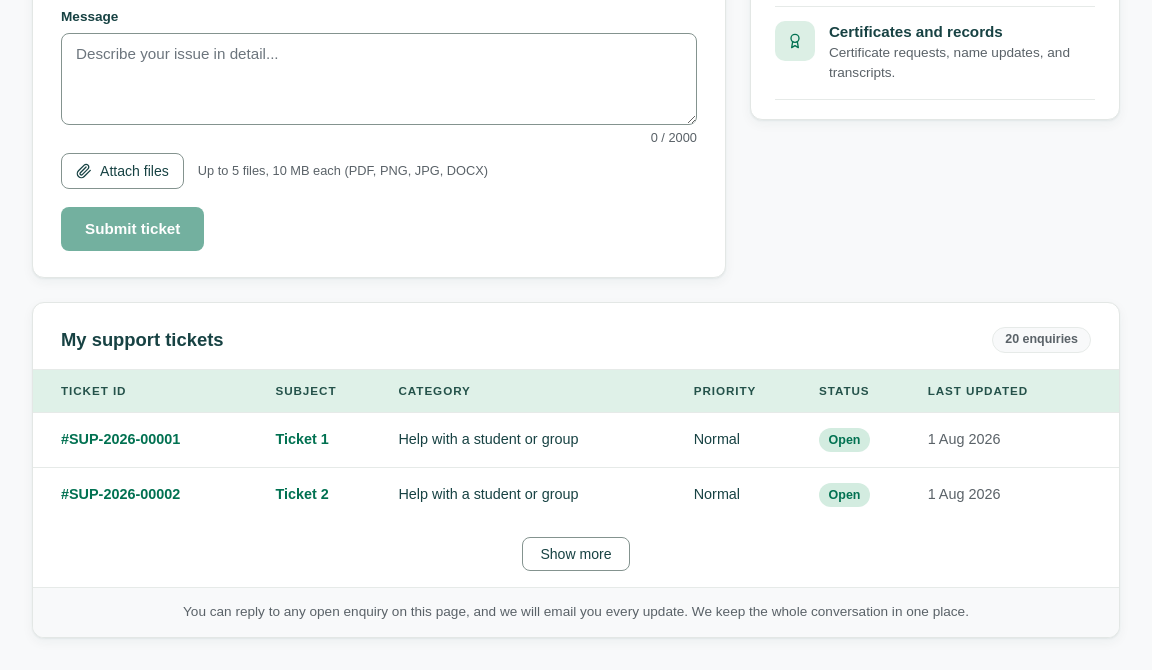
Scenario: SupportCentrePage Show more › appends the next page under the rows already on screen
(page scrolled)
Click the button with class "support__more-button": [576, 554] box [522,537,630,571]
(page scrolled)
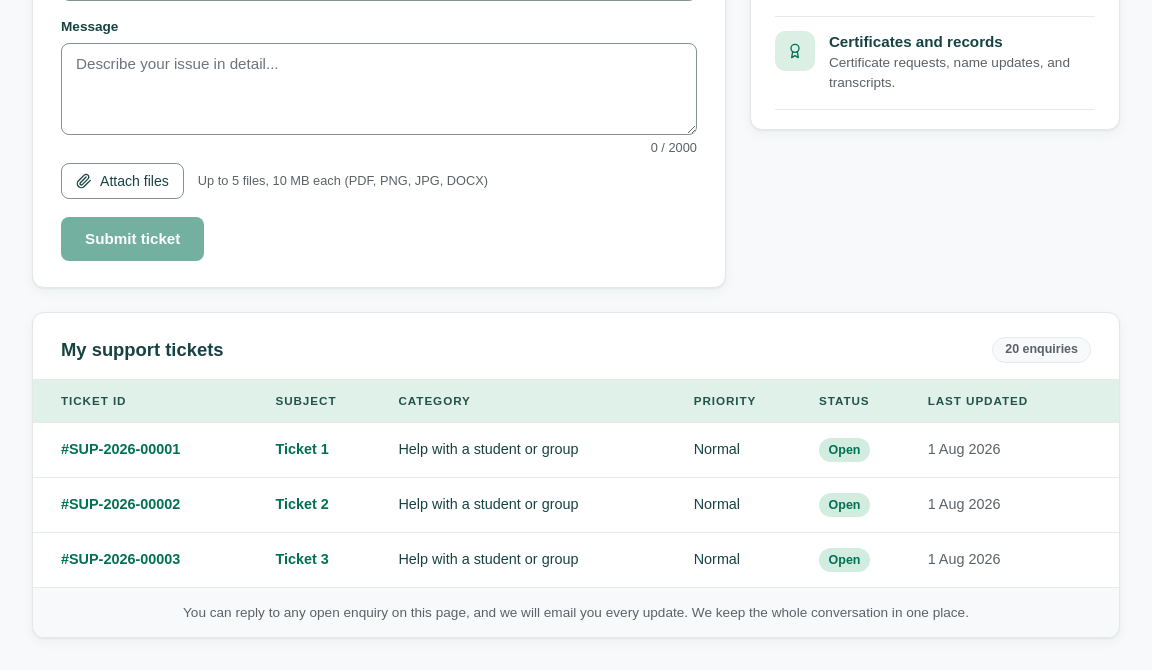
expect the text "SUP-2026-00001" is shown: met, box [61,441,180,457]
expect the text "SUP-2026-00003" is shown: met, box [61,552,180,568]
